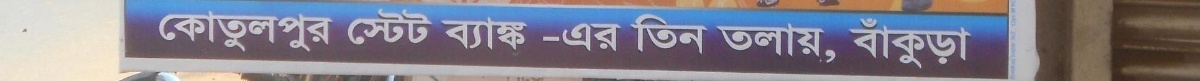text: (849, 17, 864, 69), (865, 17, 880, 69), (881, 17, 896, 69), (897, 17, 912, 69), (913, 17, 928, 69), (929, 17, 944, 69), (945, 17, 960, 69), (961, 17, 974, 69), (641, 14, 656, 59), (657, 14, 672, 59), (673, 14, 688, 59), (689, 14, 704, 59), (721, 23, 736, 67), (737, 23, 752, 67), (753, 23, 768, 67), (769, 23, 784, 67), (785, 23, 800, 67), (801, 23, 816, 67), (817, 23, 832, 67), (161, 10, 176, 53), (177, 10, 192, 53), (193, 10, 208, 53), (209, 10, 224, 53), (225, 10, 240, 53), (241, 10, 256, 53), (257, 10, 272, 53), (273, 10, 288, 53), (289, 10, 304, 53), (305, 10, 320, 53), (417, 7, 433, 47), (353, 7, 368, 47), (369, 7, 384, 47), (385, 7, 400, 47), (401, 7, 416, 47), (321, 10, 334, 53), (449, 18, 464, 54), (465, 18, 480, 54), (481, 18, 496, 54), (497, 18, 512, 54), (513, 18, 528, 54), (628, 14, 640, 59), (545, 20, 560, 55), (561, 20, 576, 55), (577, 20, 592, 55), (593, 20, 608, 55), (609, 20, 624, 55), (440, 18, 448, 54), (346, 7, 352, 47), (705, 14, 710, 59), (833, 23, 838, 67), (716, 23, 720, 67), (541, 20, 544, 55), (158, 10, 160, 53), (847, 17, 848, 69), (529, 18, 530, 54)
